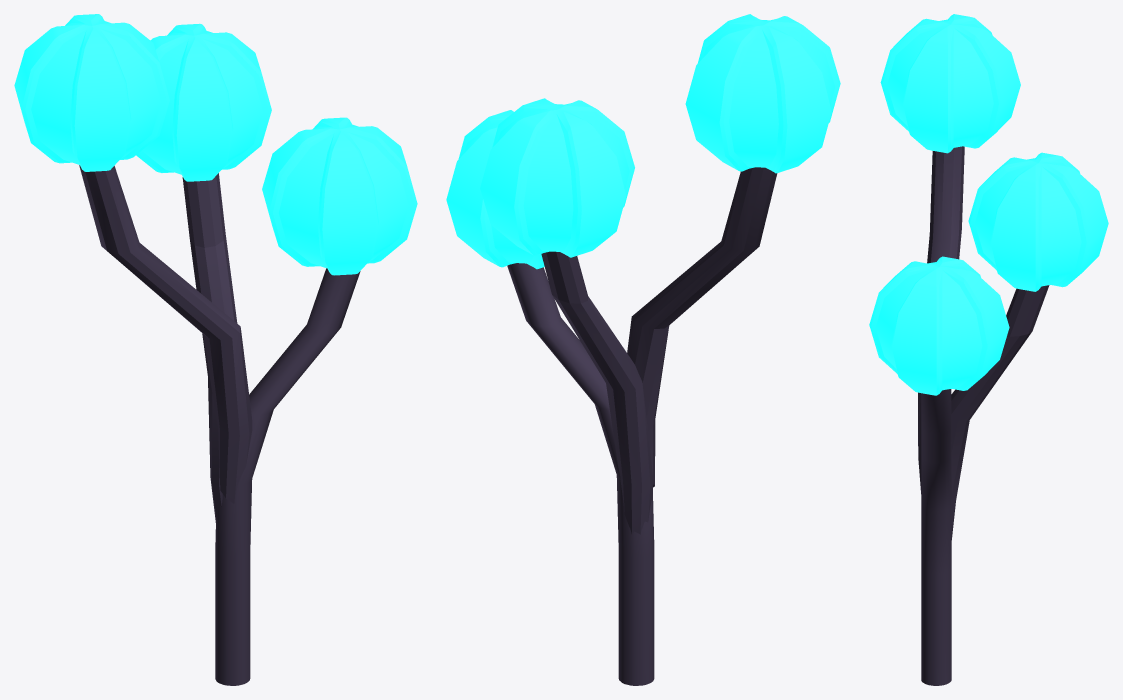
Rendered from Cave_Flower.fbx.
3 renders of one model, left to right at view 1: azimuth 30°, elevation 25°; view 2: azimuth 150°, elevation 25°; view 3: azimuth 270°, elevation 25°, orthographic. The views are drawn at different scales.
Parts seen in each view (by area): view 1: Cylinder.002, Cylinder.001; view 2: Cylinder.002, Cylinder.001; view 3: Cylinder.002, Cylinder.001.
Part boxes in pixels (left/top/right/bottom): Cylinder.002: left=14, top=14, right=417, bottom=275; Cylinder.001: left=79, top=165, right=360, bottom=685; Cylinder.002: left=446, top=14, right=840, bottom=269; Cylinder.001: left=507, top=167, right=777, bottom=685; Cylinder.002: left=869, top=14, right=1108, bottom=395; Cylinder.001: left=918, top=146, right=1049, bottom=685.
Size of the model in its own units: 355 by 609 by 220.
